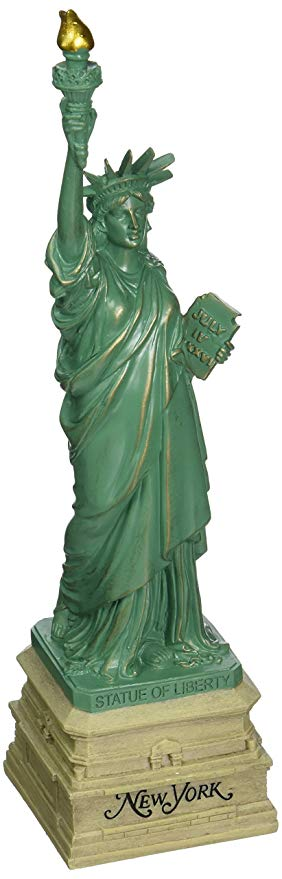person-like: (5, 2, 270, 724)
